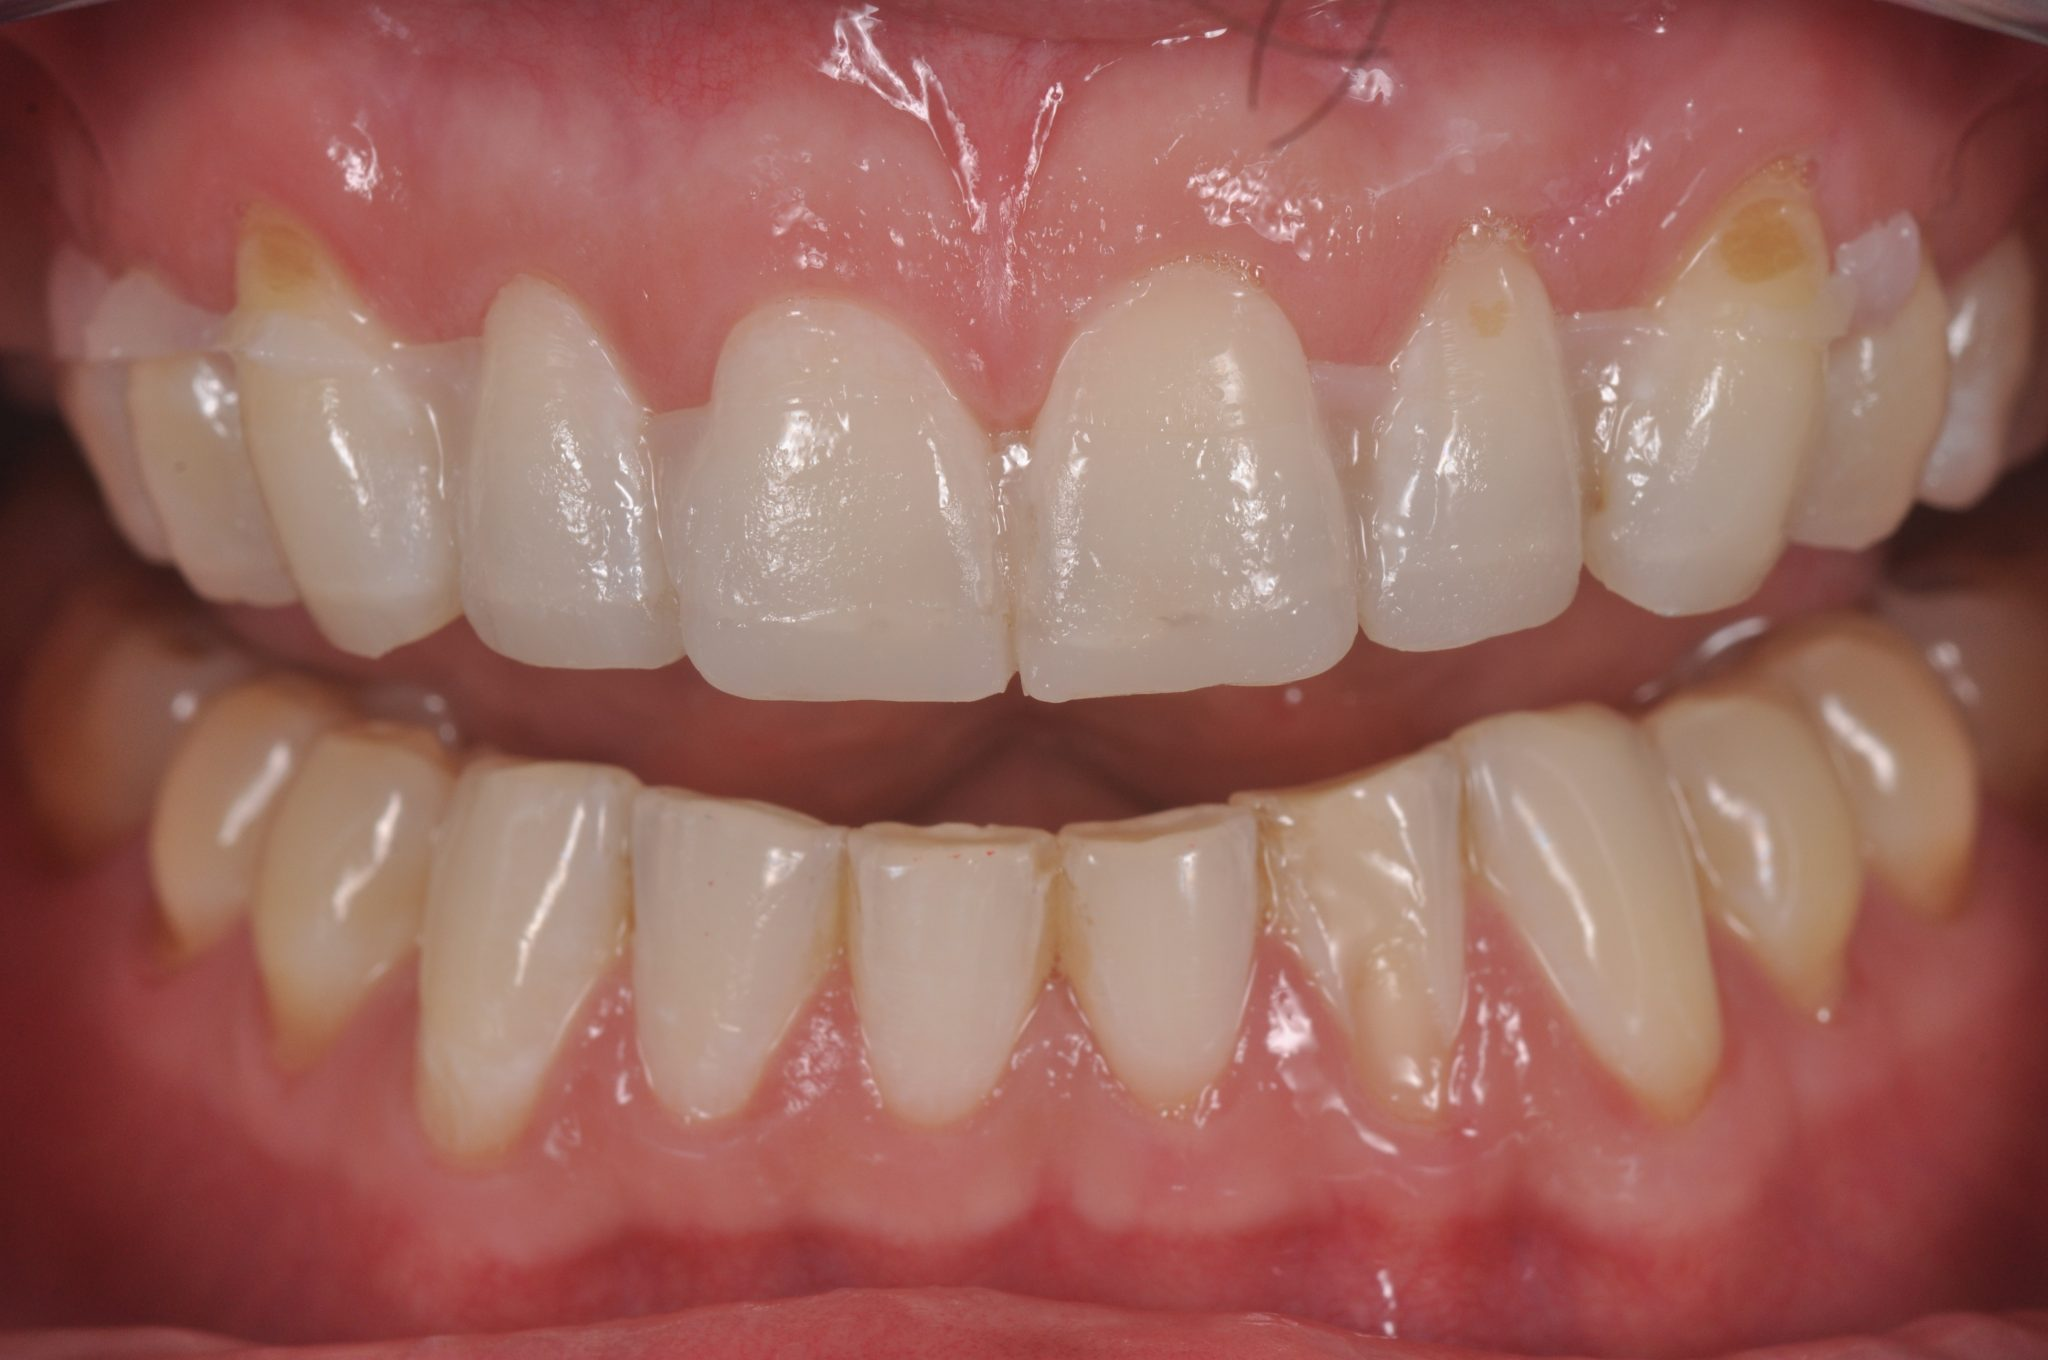LL1BC_healthy: (1663, 677, 1864, 1012)
LL2BC_healthy: (1798, 615, 1989, 914)
LLCI_healthy: (1054, 804, 1274, 1129)
LLC_healthy: (1465, 704, 1734, 1146)
LLLI_healthy: (1274, 757, 1490, 1122)
LR1BC_healthy: (252, 738, 438, 1050)
LR2BC_healthy: (149, 689, 316, 930)
LRCI_healthy: (840, 811, 1047, 1132)
LRC_healthy: (419, 754, 633, 1116)
LRLI_healthy: (617, 780, 843, 1120)
UL1BC_healthy: (1816, 237, 1943, 540)
ULCI_healthy: (1021, 266, 1356, 689)
ULC_decay: (1607, 168, 1820, 604)
ULLI_healthy: (1358, 222, 1591, 644)
UR1BC_healthy: (121, 266, 272, 624)
URCI_healthy: (678, 304, 1022, 713)
URC_decay: (225, 200, 472, 660)
URLI_healthy: (448, 293, 678, 677)
